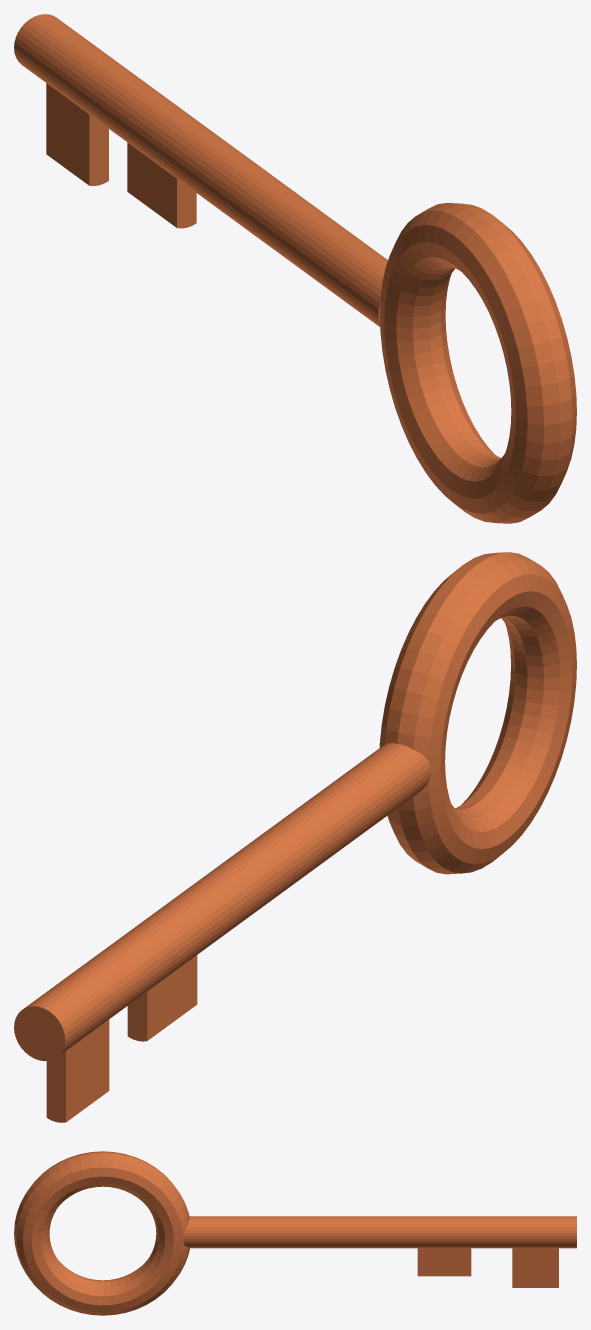
File: llave.fbx
3 renders of one model, top to bottom at view 1: azimuth 30°, elevation 25°; view 2: azimuth 150°, elevation 25°; view 3: azimuth 270°, elevation 25°, orthographic. The views are drawn at different scales.
Visible parts, largest first — view 1: llave; view 2: llave; view 3: llave.
Part boxes in pixels (bbox=[...]): llave: bbox=[14, 14, 576, 523]; llave: bbox=[14, 552, 576, 1122]; llave: bbox=[14, 1151, 576, 1315].
Bounding box in the file's own units: 2.48 × 12.38 × 39.21.
Materials: 1 (1 with a texture image).
